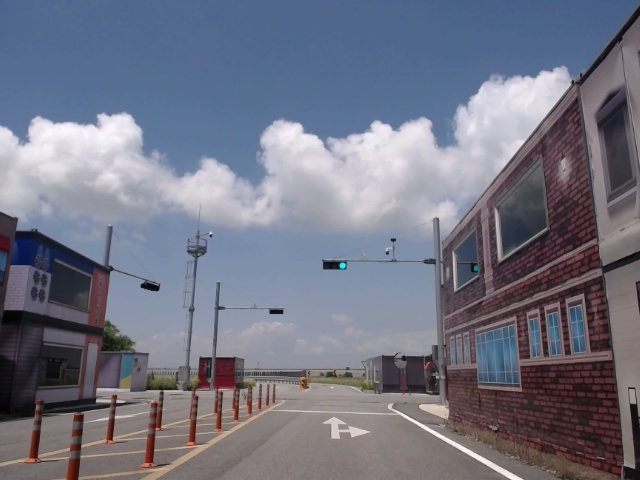green_3: (323, 261, 347, 268)
